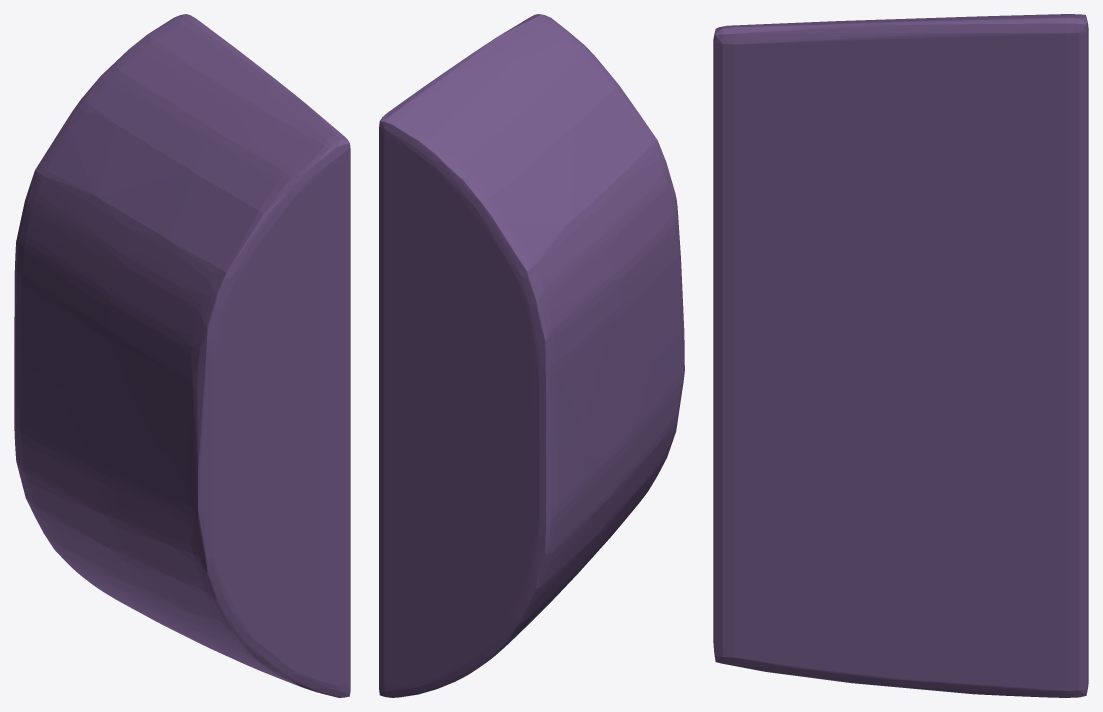
The model's file is left_f_distal_pst_part_1.obj.
3 views of the same model, side by side, from view 1: azimuth 30°, elevation 25°; view 2: azimuth 150°, elevation 25°; view 3: azimuth 270°, elevation 25° (orthographic). The views are drawn at different scales.
Size of the model in its own units: 4.39 by 14.12 by 7.09.
